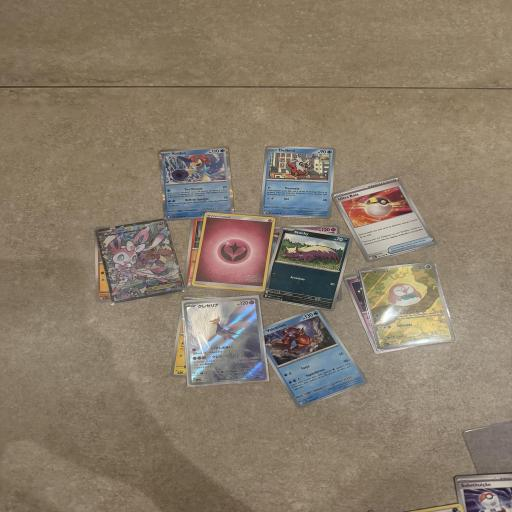card: (256, 297, 369, 418), (330, 159, 439, 278), (358, 250, 457, 361), (259, 222, 354, 313), (94, 216, 188, 305), (183, 297, 267, 385), (192, 211, 276, 293), (260, 142, 337, 224), (159, 144, 236, 221)
